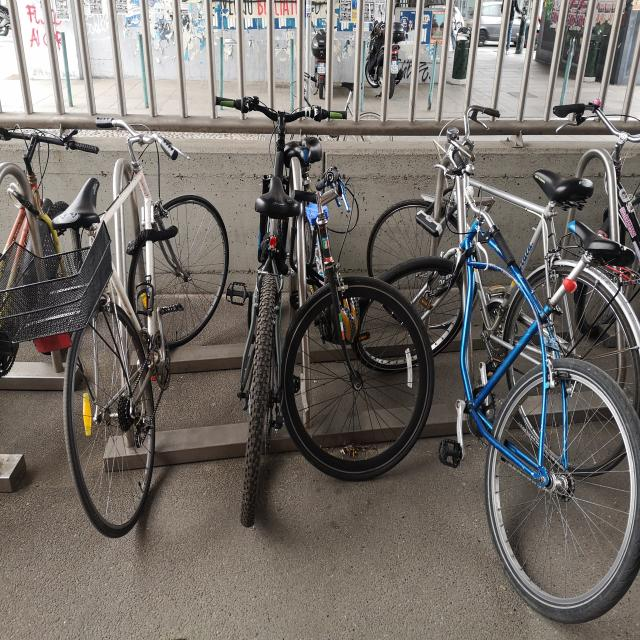Bicycle: (393, 169, 640, 621), (64, 92, 223, 544), (417, 96, 636, 420), (204, 108, 344, 562), (299, 111, 400, 492), (0, 105, 111, 394), (589, 65, 640, 246)
